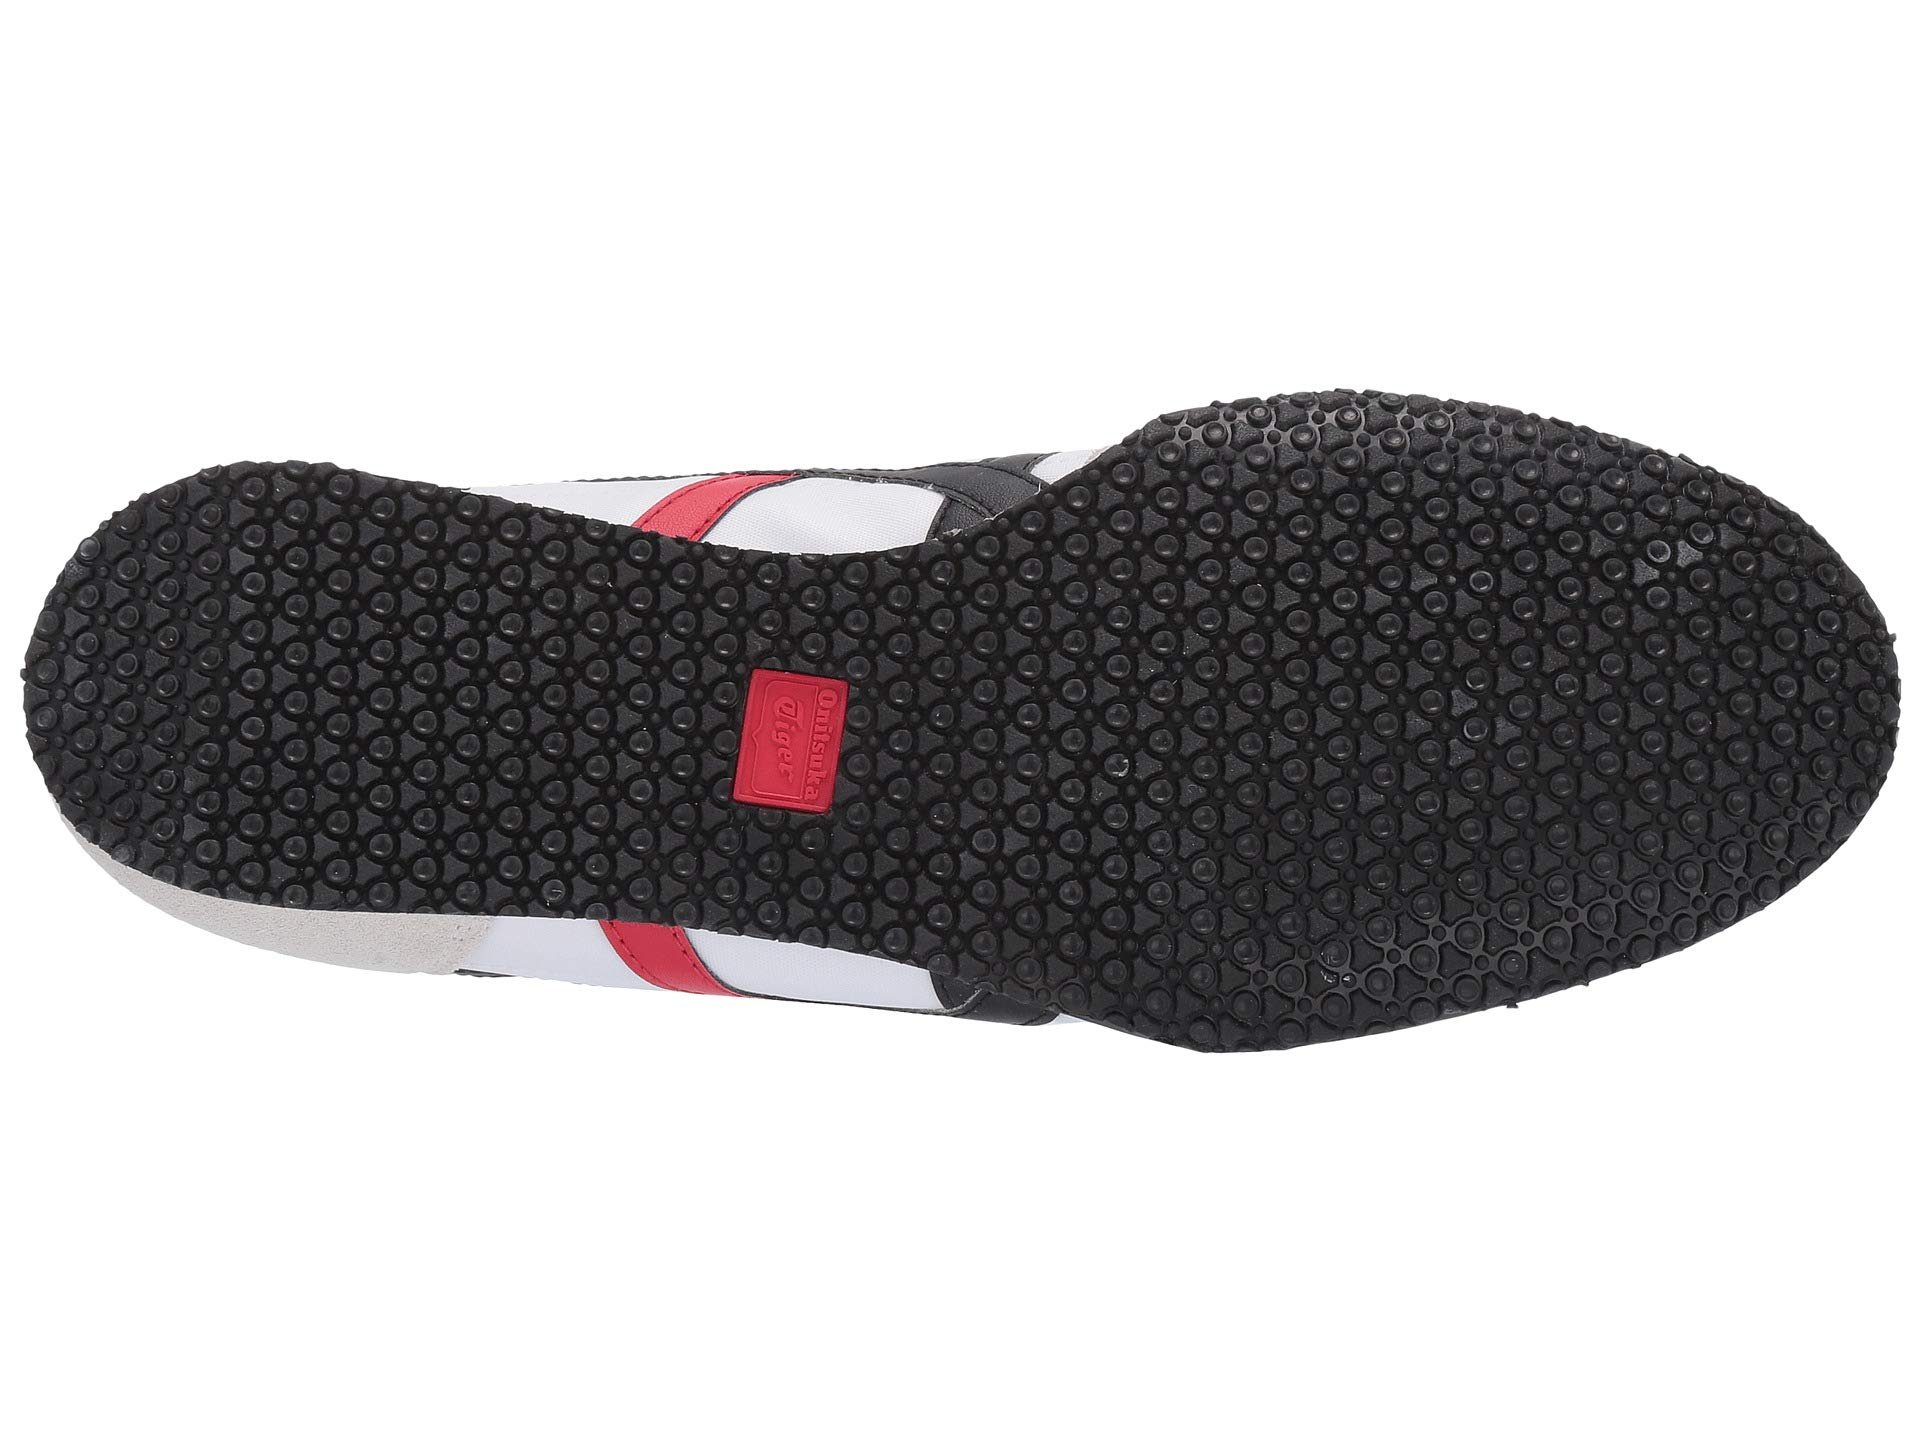circle: (1158, 424, 1500, 1004), (162, 526, 668, 879), (1534, 493, 1819, 856), (913, 605, 1134, 942), (727, 650, 854, 827)
quad: (727, 650, 854, 827)
text: (727, 650, 854, 827)
triangle: (913, 605, 1134, 942)
